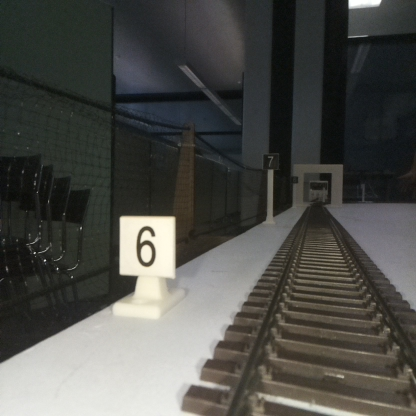black-info-7: (262, 152, 277, 223)
white-stop-6: (119, 216, 174, 312)
